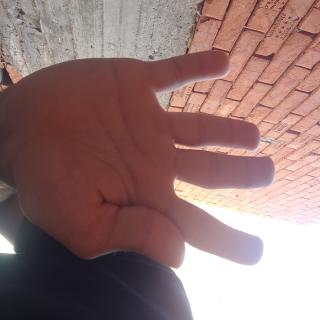SHEEN: (25, 46, 216, 320)
